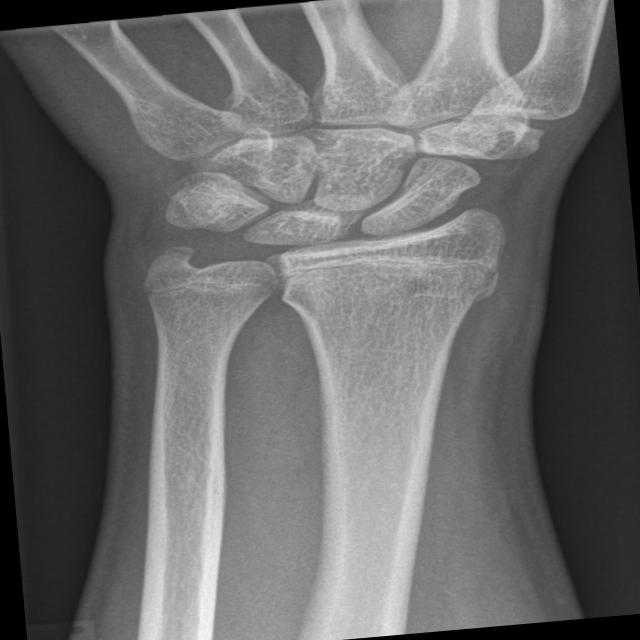fracture: (263, 233, 517, 300), (135, 263, 287, 314), (366, 272, 502, 322)
